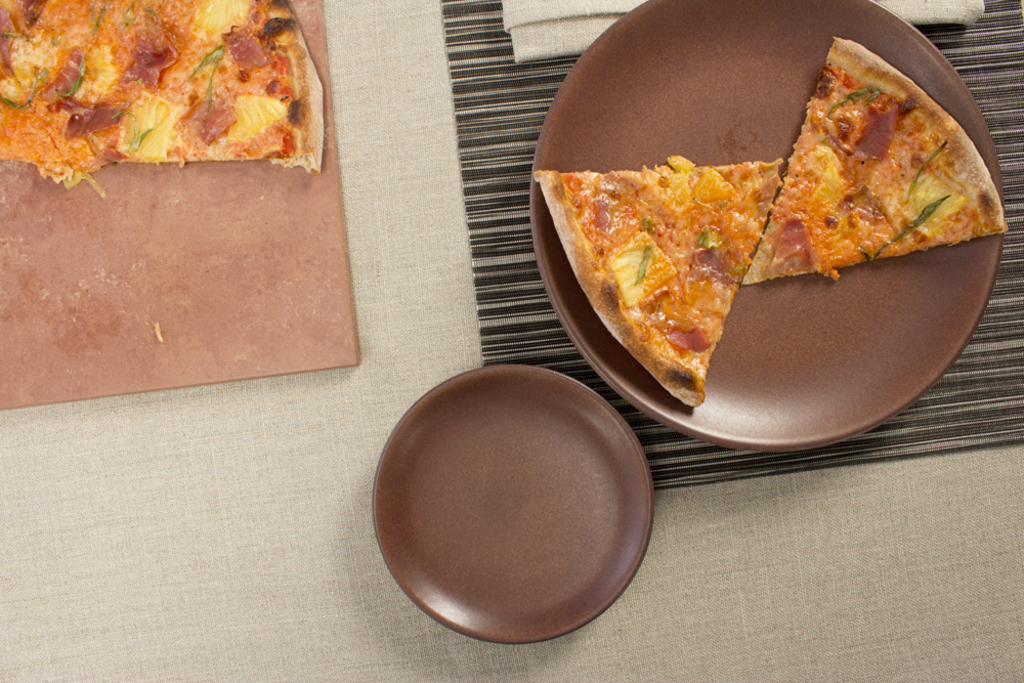plate: (381, 357, 664, 639)
